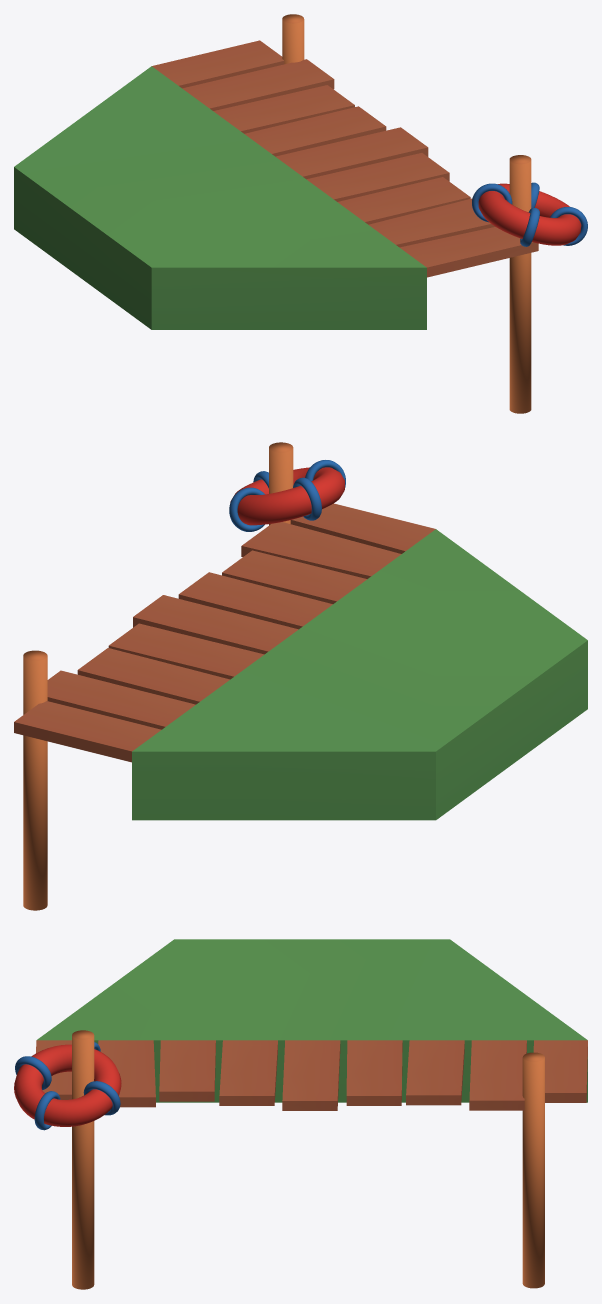
The model's file is forestPort.fbx.
3 renders of one model, top to bottom at view 1: azimuth 30°, elevation 25°; view 2: azimuth 150°, elevation 25°; view 3: azimuth 270°, elevation 25°, orthographic. The views are drawn at different scales.
Parts seen in each view (by area): view 1: Cylinder, Cube, Cylinder.001, Torus.001, Torus.003; view 2: Cylinder, Cube, Cylinder.001, Torus.001, Torus.003; view 3: Cylinder, Cube, Cylinder.001, Torus.001, Torus.003.
Boxes of the visible parts, left/top/right/bottom form: Cylinder: left=14, top=66, right=426, bottom=329; Cube: left=152, top=40, right=538, bottom=277; Cylinder.001: left=282, top=14, right=531, bottom=413; Torus.001: left=478, top=183, right=581, bottom=245; Torus.003: left=472, top=182, right=587, bottom=246; Cylinder: left=132, top=529, right=587, bottom=820; Cube: left=14, top=503, right=435, bottom=762; Cylinder.001: left=23, top=442, right=293, bottom=910; Torus.001: left=230, top=467, right=344, bottom=525; Torus.003: left=229, top=460, right=345, bottom=531; Cylinder: left=37, top=939, right=587, bottom=1102; Cube: left=36, top=1040, right=587, bottom=1110; Cylinder.001: left=72, top=1030, right=544, bottom=1289; Torus.001: left=14, top=1044, right=121, bottom=1126; Torus.003: left=15, top=1042, right=120, bottom=1130.
Size of the model in its own units: 310 by 200 by 416.
Materials: 2 (2 with a texture image).
